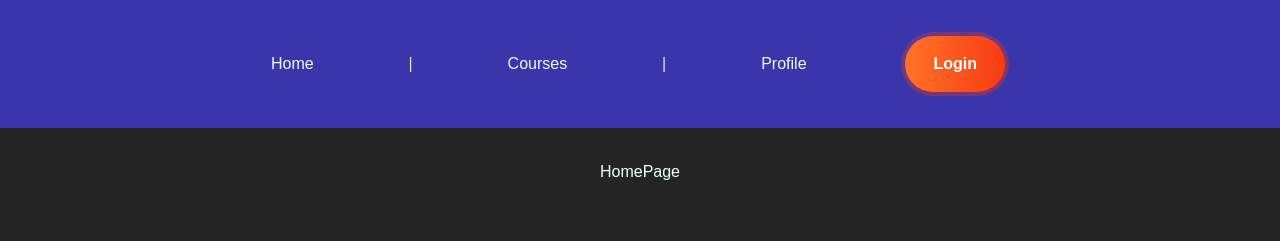
it: NavBar component › navigates to the login page when 'Profile' link is clicked while not authenticated
Click the link "Profile": {"x": 784, "y": 64} [761,55,807,72]
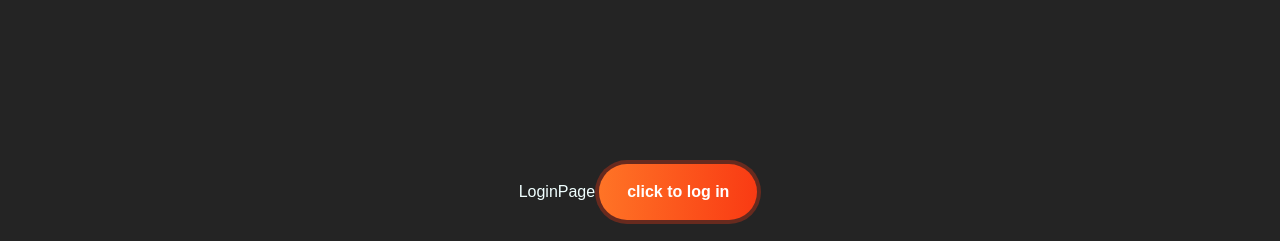
Expected: the text "LoginPage" is shown, [519,183,595,200]
